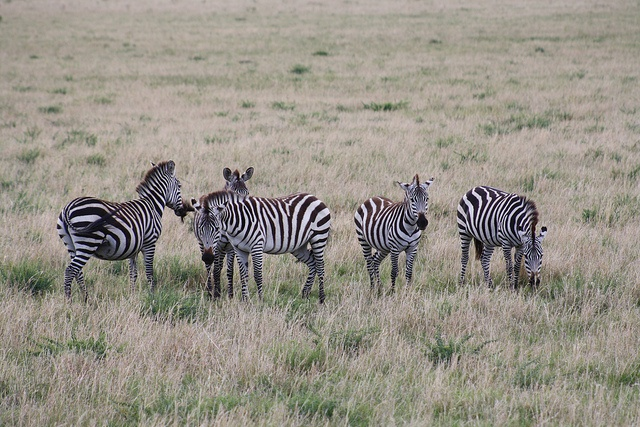zebra: (123, 230, 259, 373), (262, 245, 408, 355), (502, 240, 594, 350), (395, 236, 475, 359)
